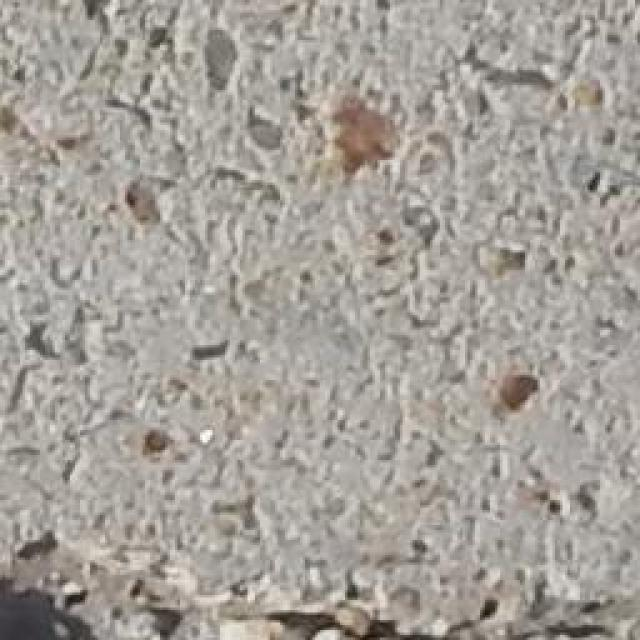concrete-crack: (0, 525, 640, 640)
